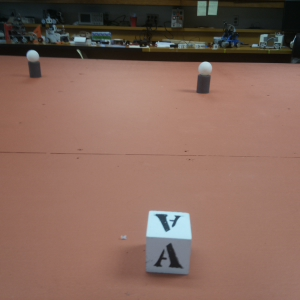obstacle: (143, 204, 195, 277), (194, 60, 214, 94), (25, 50, 42, 83)
